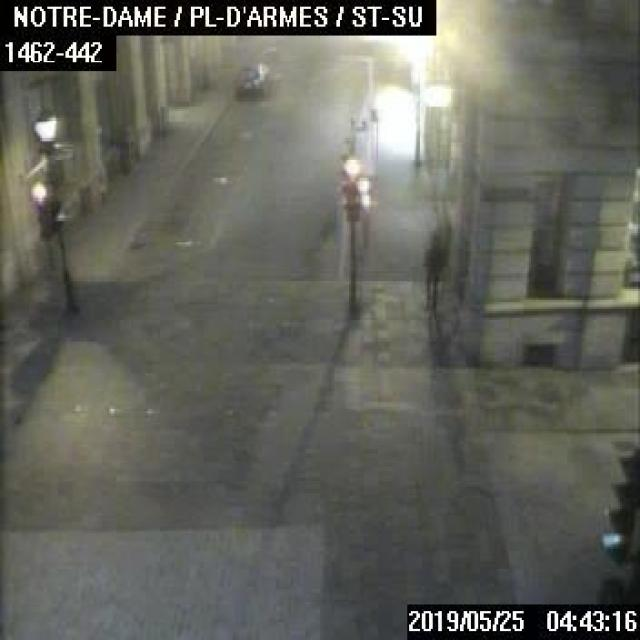pedestrian: (422, 227, 447, 309)
vehicle: (236, 62, 264, 94)
